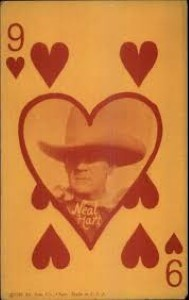NineOfHearts: (1, 15, 187, 291)
